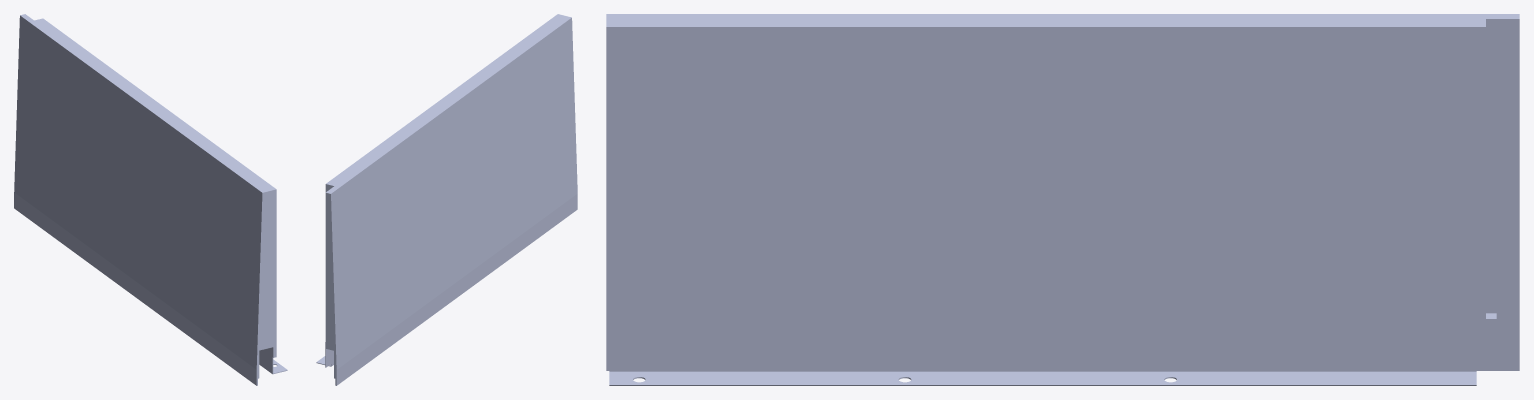
Rendered from mv-kava-E450-p.glb.
3 views of the same model, side by side, from view 1: azimuth 30°, elevation 25°; view 2: azimuth 150°, elevation 25°; view 3: azimuth 270°, elevation 25° (orthographic). The views are drawn at different scales.
Parts seen in each view (by area): view 1: 48671693; view 2: 48671693; view 3: 48671693.
Boxes of the visible parts, x1=… form: 48671693: x1=14, y1=14, x2=287, y2=385; 48671693: x1=316, y1=14, x2=577, y2=385; 48671693: x1=606, y1=14, x2=1519, y2=385.
Size of the model in its own units: 0.0335 by 0.192 by 0.4402.
